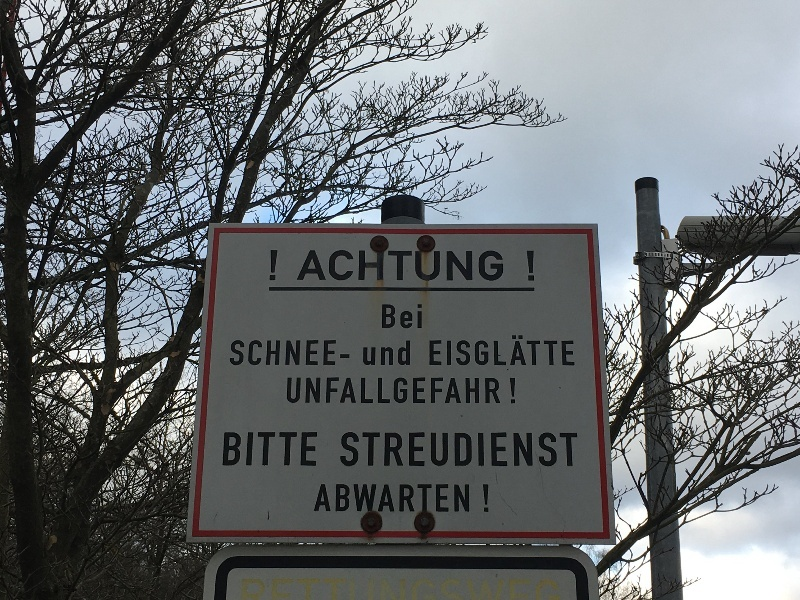text: (353, 431, 368, 469), (369, 431, 384, 469), (385, 431, 400, 469), (401, 431, 416, 469), (417, 431, 432, 469), (433, 431, 448, 469), (449, 431, 464, 469), (465, 431, 480, 469), (481, 431, 496, 469), (497, 431, 512, 469), (513, 431, 528, 469), (529, 431, 544, 469), (545, 431, 560, 469), (561, 431, 576, 469), (225, 431, 240, 468), (241, 431, 256, 468), (257, 431, 272, 468), (273, 431, 288, 468), (289, 431, 304, 468), (321, 248, 336, 283), (337, 248, 352, 283), (353, 248, 368, 283), (369, 248, 384, 283), (385, 248, 400, 283), (401, 248, 416, 283), (417, 248, 432, 283), (433, 248, 448, 283), (449, 248, 464, 283), (465, 248, 480, 283), (481, 248, 496, 283), (433, 334, 448, 368), (449, 334, 464, 368), (465, 334, 480, 368), (481, 334, 496, 368), (497, 334, 512, 368), (513, 334, 528, 368), (529, 334, 544, 368), (545, 334, 560, 368), (561, 334, 576, 368), (241, 337, 256, 370), (257, 337, 272, 370), (273, 337, 288, 370), (289, 337, 304, 370), (305, 337, 320, 370), (321, 337, 336, 370), (305, 431, 318, 468), (321, 484, 336, 515), (337, 484, 352, 515), (353, 484, 368, 515), (369, 484, 384, 515), (385, 484, 400, 515), (401, 484, 416, 515), (417, 484, 432, 515), (433, 484, 448, 515), (449, 484, 464, 515), (465, 484, 480, 515), (337, 337, 351, 370), (289, 376, 304, 405), (305, 376, 320, 405), (321, 376, 336, 405), (337, 376, 352, 405), (353, 376, 368, 405), (369, 376, 384, 405), (385, 376, 400, 405), (401, 376, 416, 405), (417, 376, 432, 405), (433, 376, 448, 405), (449, 376, 464, 405), (465, 376, 480, 405), (481, 376, 496, 405), (497, 376, 512, 405), (369, 340, 384, 368), (385, 340, 400, 368), (341, 431, 352, 469), (385, 303, 400, 330), (401, 303, 416, 330), (241, 575, 256, 600), (257, 575, 272, 600), (273, 575, 288, 600), (289, 575, 304, 600), (305, 575, 320, 600), (321, 575, 336, 600), (337, 575, 352, 600), (353, 575, 368, 600), (369, 575, 384, 600), (385, 575, 400, 600), (401, 575, 416, 600), (417, 575, 432, 600), (433, 575, 448, 600), (449, 575, 464, 600), (465, 575, 480, 600), (481, 575, 496, 600), (497, 575, 512, 600), (513, 575, 528, 600), (529, 575, 544, 600), (545, 575, 560, 600), (310, 248, 320, 283), (230, 337, 240, 370), (497, 248, 506, 283), (401, 340, 412, 368), (481, 484, 490, 515), (529, 249, 535, 284), (417, 303, 424, 330), (273, 248, 278, 284), (362, 340, 368, 368), (513, 376, 517, 405), (429, 334, 432, 368), (381, 303, 384, 330), (577, 431, 579, 469), (270, 248, 272, 284), (526, 249, 528, 284), (287, 376, 288, 405), (239, 575, 240, 600), (561, 575, 562, 600)
